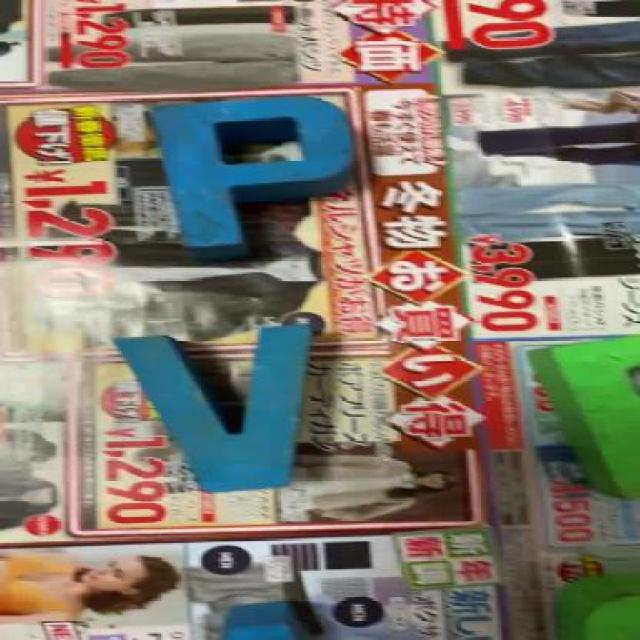P: (158, 99, 358, 243)
V: (122, 328, 309, 489)
